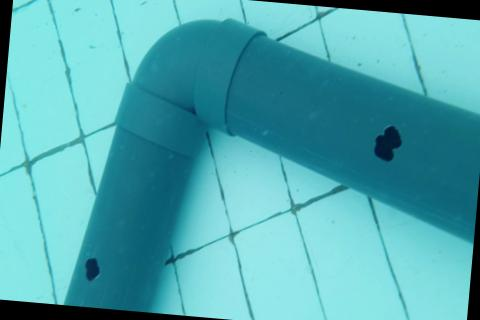kebocoran: (371, 123, 403, 164), (83, 255, 101, 282)
